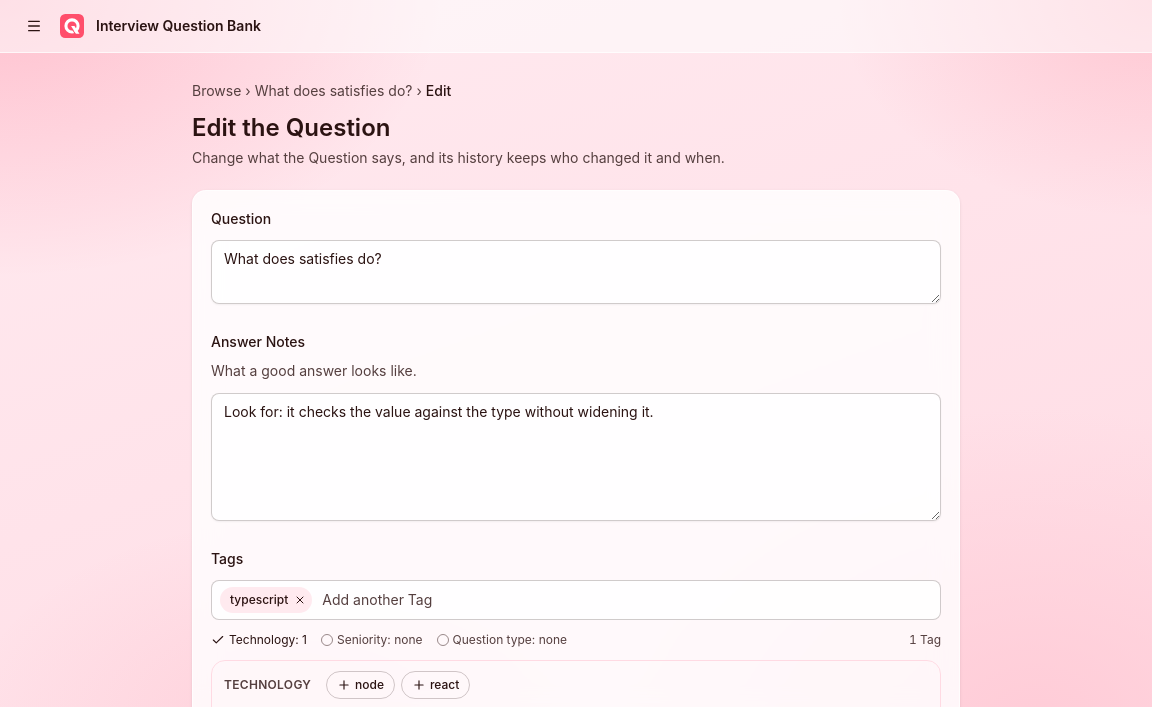
Scenario: an edit the API refused › shows the same refusal to an Author editing a Question they did not write
The image size is (1152, 707).
Type " In TypeScript." into the text box labelled "Question" at coordinates (576, 272), box [211,240,941,304]
(page scrolled)
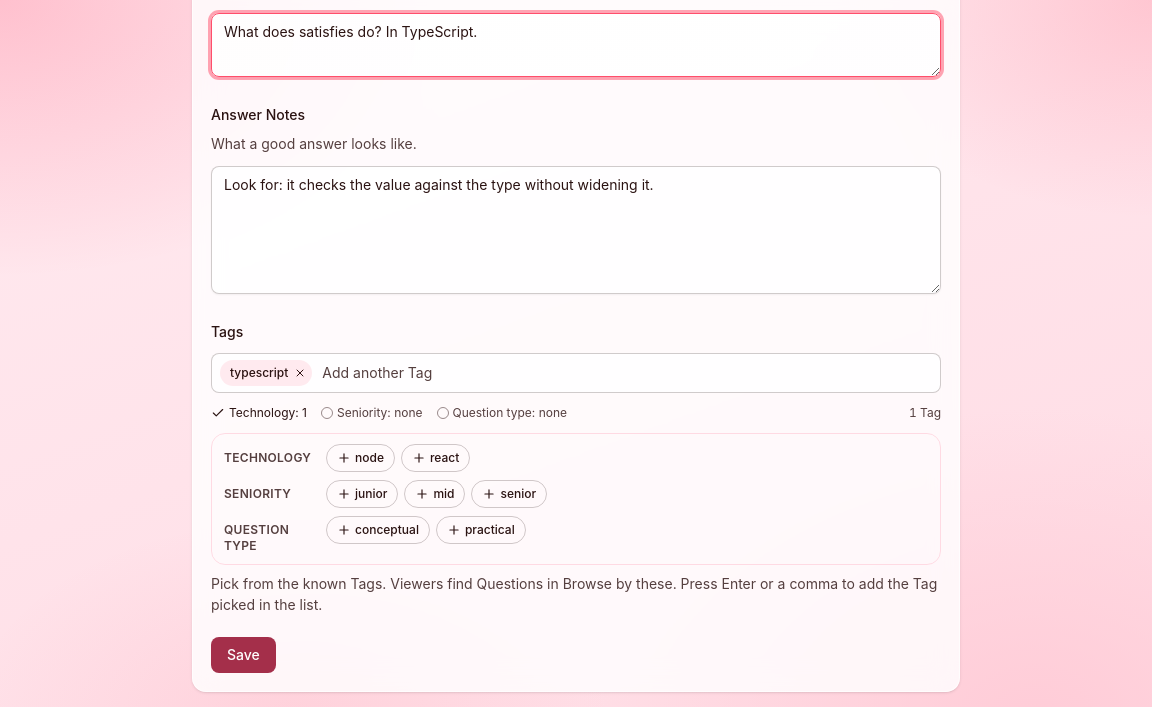
Click the button "Save" at coordinates (243, 655), box [211,637,276,673]
(page scrolled)
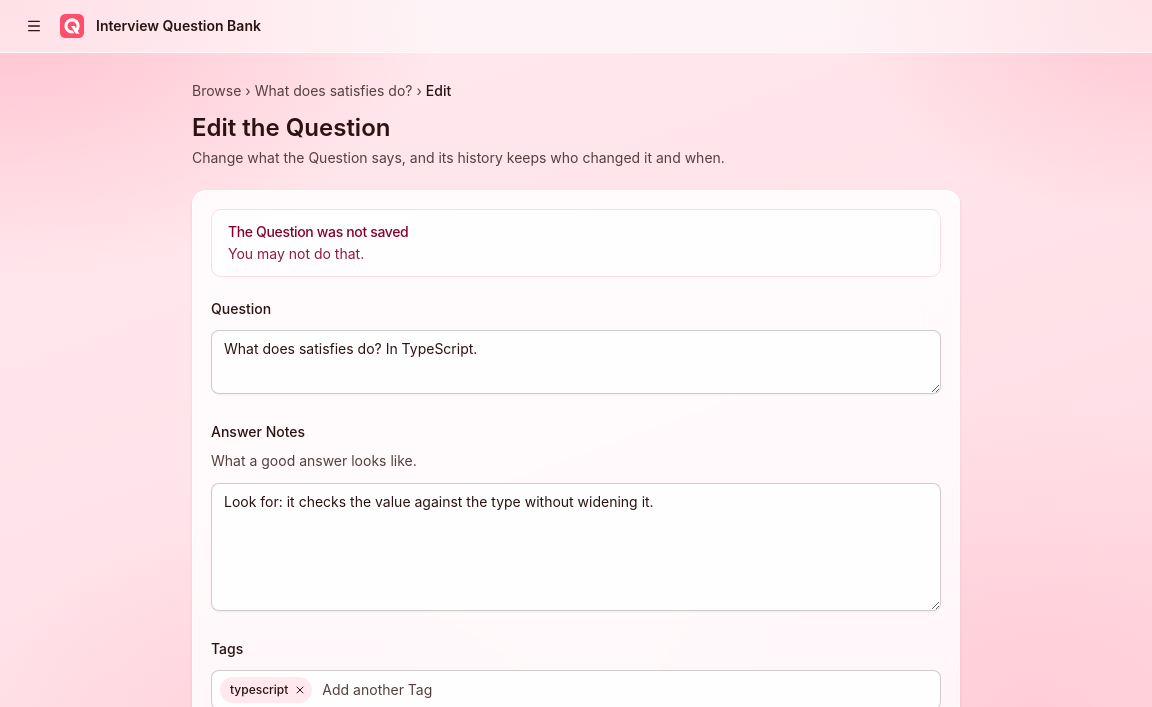
Expected: the text "You may not do that." is shown, [228,245,364,262]
